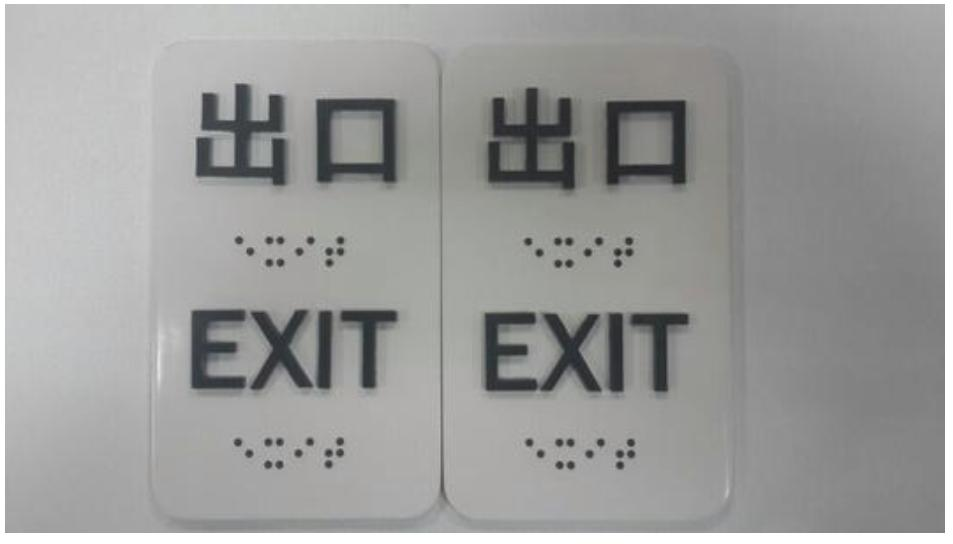Braille: (321, 436, 348, 472), (291, 436, 318, 471), (611, 437, 637, 473), (609, 236, 636, 270), (583, 437, 609, 472), (323, 234, 348, 270), (262, 436, 286, 472), (554, 436, 578, 472), (263, 234, 287, 269), (552, 236, 576, 271), (582, 236, 605, 272), (232, 436, 256, 470), (233, 234, 256, 268), (525, 436, 546, 473), (293, 234, 315, 269), (523, 235, 544, 270)
